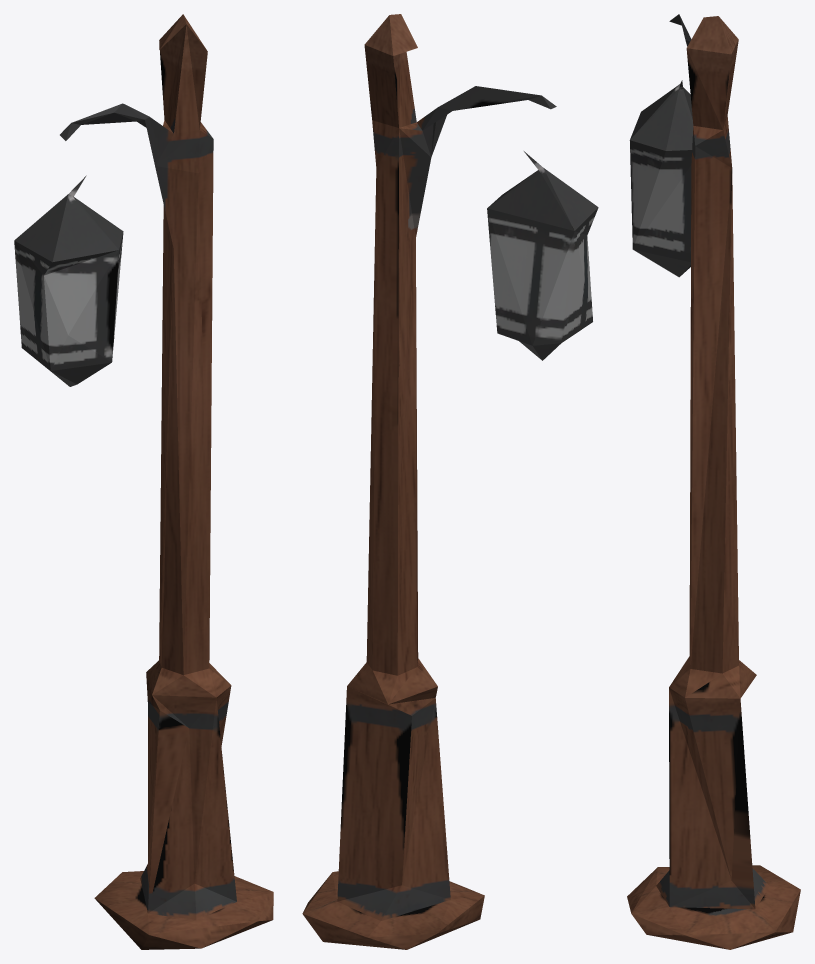
The model's file is post_light_lod1.glb.
The picture shows the model from 3 angles, left to right: view 1: azimuth 30°, elevation 25°; view 2: azimuth 150°, elevation 25°; view 3: azimuth 270°, elevation 25°; orthographic projection.
Parts seen in each view (by area): view 1: geometry_0; view 2: geometry_0; view 3: geometry_0.
Boxes of the visible parts, x1,y1,x2,y2 form: geometry_0: (14, 14, 273, 949); geometry_0: (302, 14, 598, 949); geometry_0: (627, 14, 800, 949).
Bounding box in the file's own units: 0.5807 × 1.99 × 0.3474.
1 material, 1 textured.
